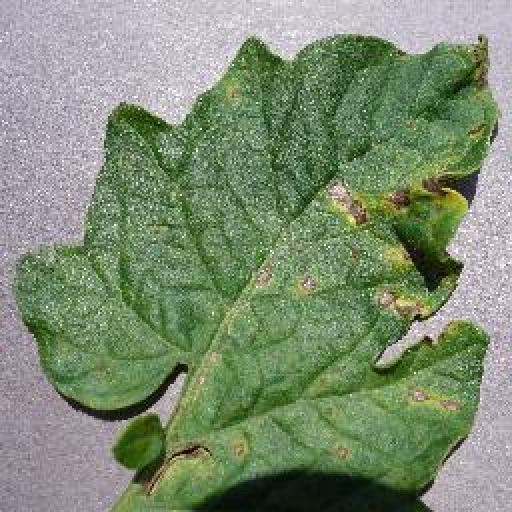Septoria: (14, 26, 498, 512)
